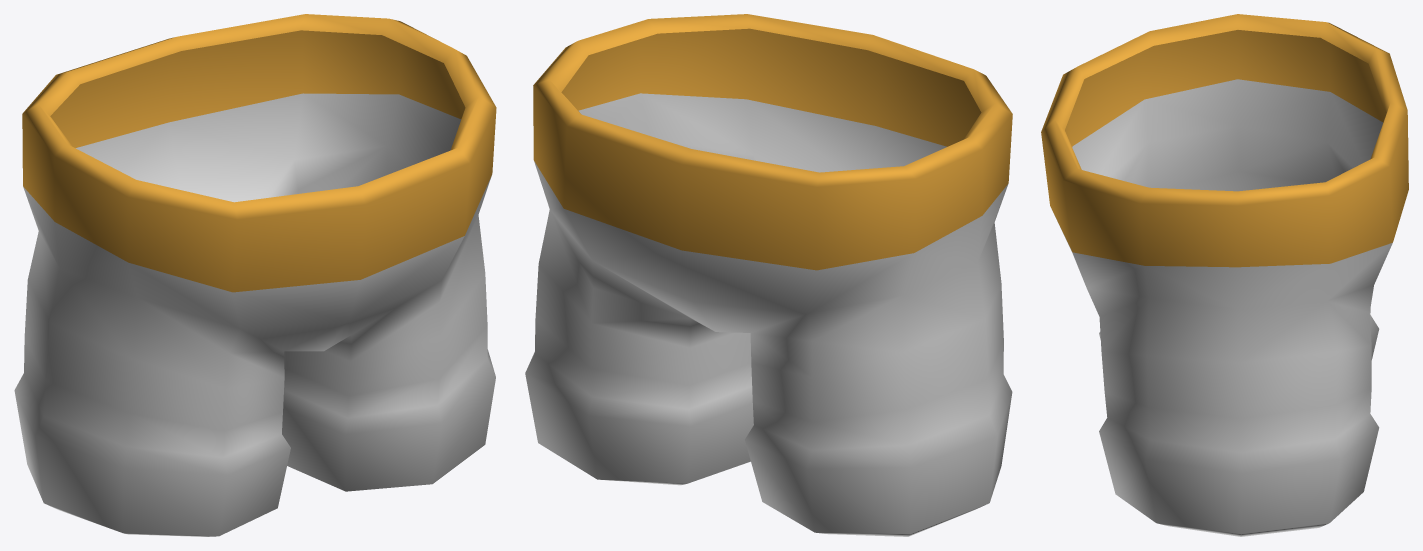
File: Bottom_04_Fit.fbx
The picture shows the model from 3 angles, left to right: view 1: azimuth 30°, elevation 25°; view 2: azimuth 150°, elevation 25°; view 3: azimuth 270°, elevation 25°; orthographic projection. The views are drawn at different scales.
Visible parts, largest first — view 1: Bottom_04_Fit; view 2: Bottom_04_Fit; view 3: Bottom_04_Fit.
Boxes of the visible parts, <box> form: Bottom_04_Fit: <box>14,14,496,536</box>; Bottom_04_Fit: <box>525,14,1012,536</box>; Bottom_04_Fit: <box>1041,14,1408,536</box>.
Size of the model in its own units: 41.1 by 33.01 by 31.34.
